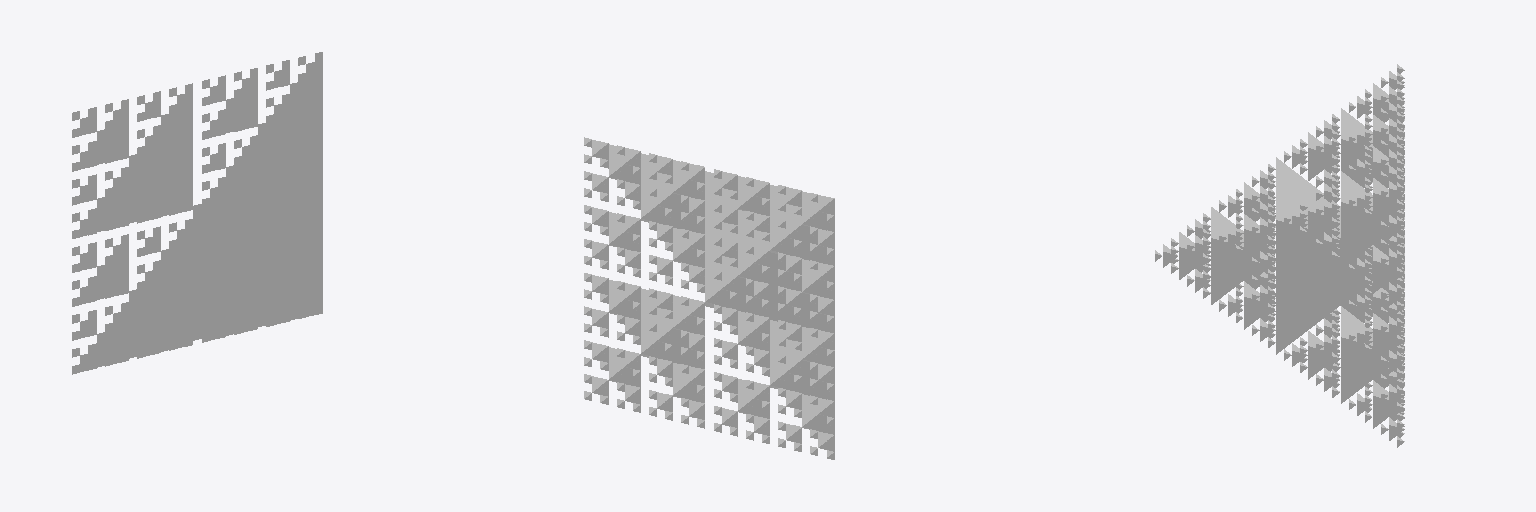
Rendered from invertedsierpinki.obj.
3 renders of one model, left to right at view 1: azimuth 30°, elevation 25°; view 2: azimuth 150°, elevation 25°; view 3: azimuth 270°, elevation 25°, orthographic.
Visible parts, largest first — view 1: default; view 2: default; view 3: default.
Boxes of the visible parts, x1=… form: default: x1=72, y1=52, x2=322, y2=374; default: x1=584, y1=137, x2=834, y2=459; default: x1=1155, y1=64, x2=1404, y2=447.
Size of the model in its own units: 0.9688 by 0.9688 by 0.8389.